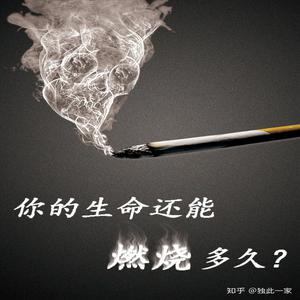cigarette: (113, 124, 300, 161)
